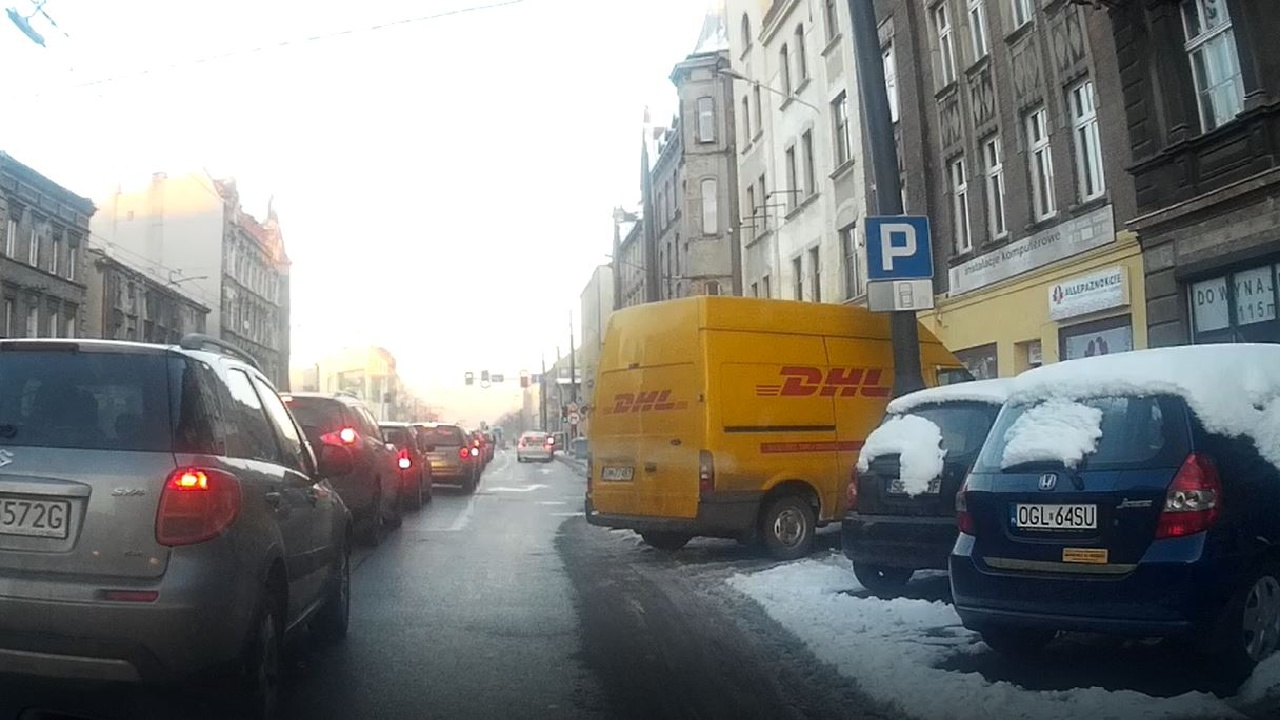D18: (859, 214, 939, 281)
